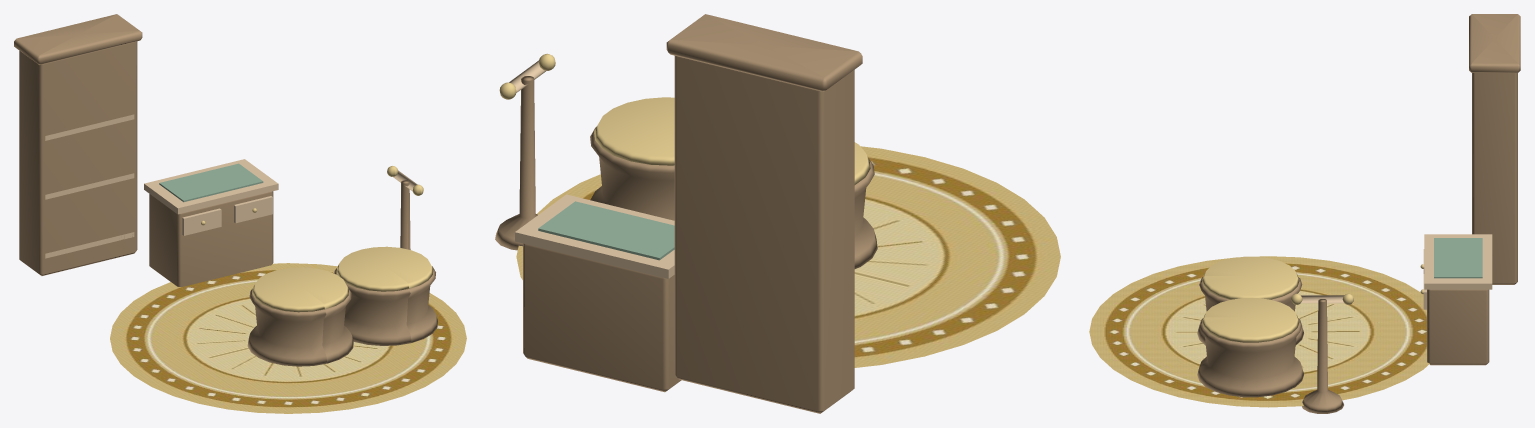
The model's file is attention_furniture.glb.
The picture shows the model from 3 angles, left to right: view 1: azimuth 30°, elevation 25°; view 2: azimuth 150°, elevation 25°; view 3: azimuth 270°, elevation 25°; orthographic projection. The views are drawn at different scales.
Parts seen in each view (by area): view 1: Attention_Furniture_Set; view 2: Attention_Furniture_Set; view 3: Attention_Furniture_Set.
Part boxes in pixels (bbox=[...]): Attention_Furniture_Set: bbox=[14, 14, 466, 413]; Attention_Furniture_Set: bbox=[495, 14, 1060, 413]; Attention_Furniture_Set: bbox=[1089, 14, 1520, 413].
Size of the model in its own units: 2.71 by 2.02 by 3.18.
6 materials, 1 textured.
